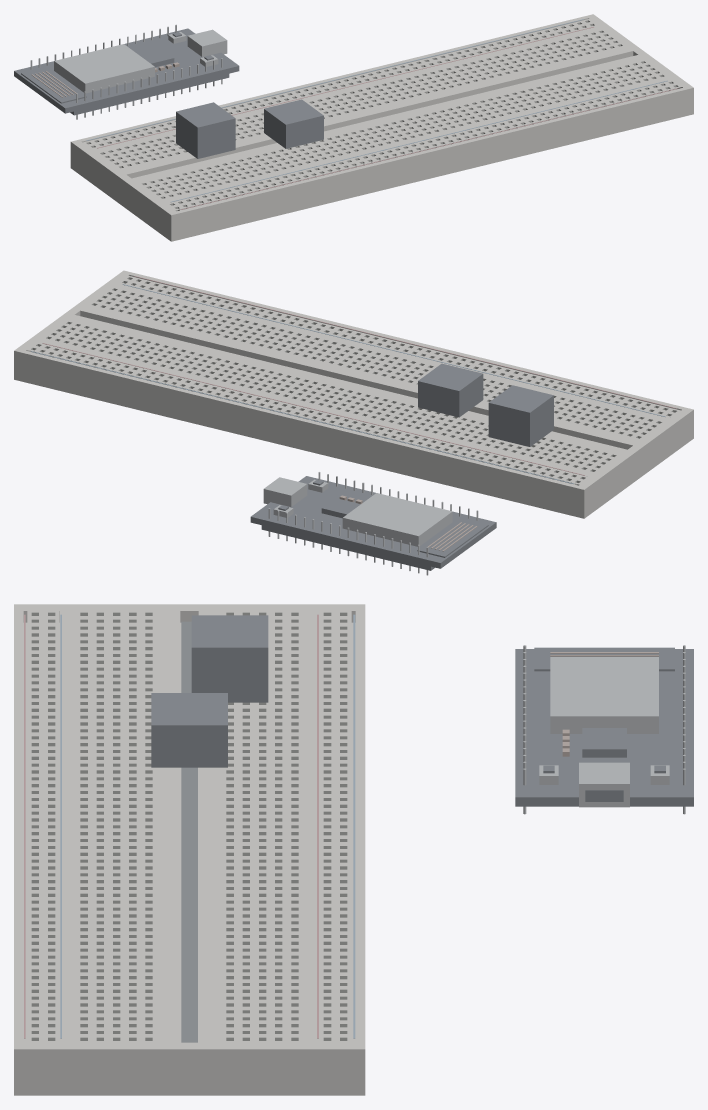
The model's file is step-4.glb.
3 renders of one model, top to bottom at view 1: azimuth 30°, elevation 25°; view 2: azimuth 150°, elevation 25°; view 3: azimuth 270°, elevation 25°, orthographic. The views are drawn at different scales.
Parts seen in each view (by area): view 1: breadboard__mesh, uno__mesh, piezo__mesh, button__mesh; view 2: breadboard__mesh, uno__mesh, piezo__mesh, button__mesh; view 3: breadboard__mesh, uno__mesh, piezo__mesh, button__mesh.
Boxes of the visible parts, left/top/right/bottom form: breadboard__mesh: left=70, top=14, right=693, bottom=241; uno__mesh: left=14, top=24, right=239, bottom=119; piezo__mesh: left=176, top=102, right=235, bottom=158; button__mesh: left=264, top=99, right=323, bottom=148; breadboard__mesh: left=14, top=270, right=693, bottom=518; uno__mesh: left=250, top=472, right=496, bottom=575; piezo__mesh: left=488, top=385, right=553, bottom=446; button__mesh: left=418, top=363, right=483, bottom=417; breadboard__mesh: left=14, top=604, right=365, bottom=1095; uno__mesh: left=515, top=645, right=693, bottom=814; piezo__mesh: left=191, top=615, right=268, bottom=702; button__mesh: left=151, top=693, right=227, bottom=767.
Size of the model in its own units: 0.165 by 0.0175 by 0.1065.
